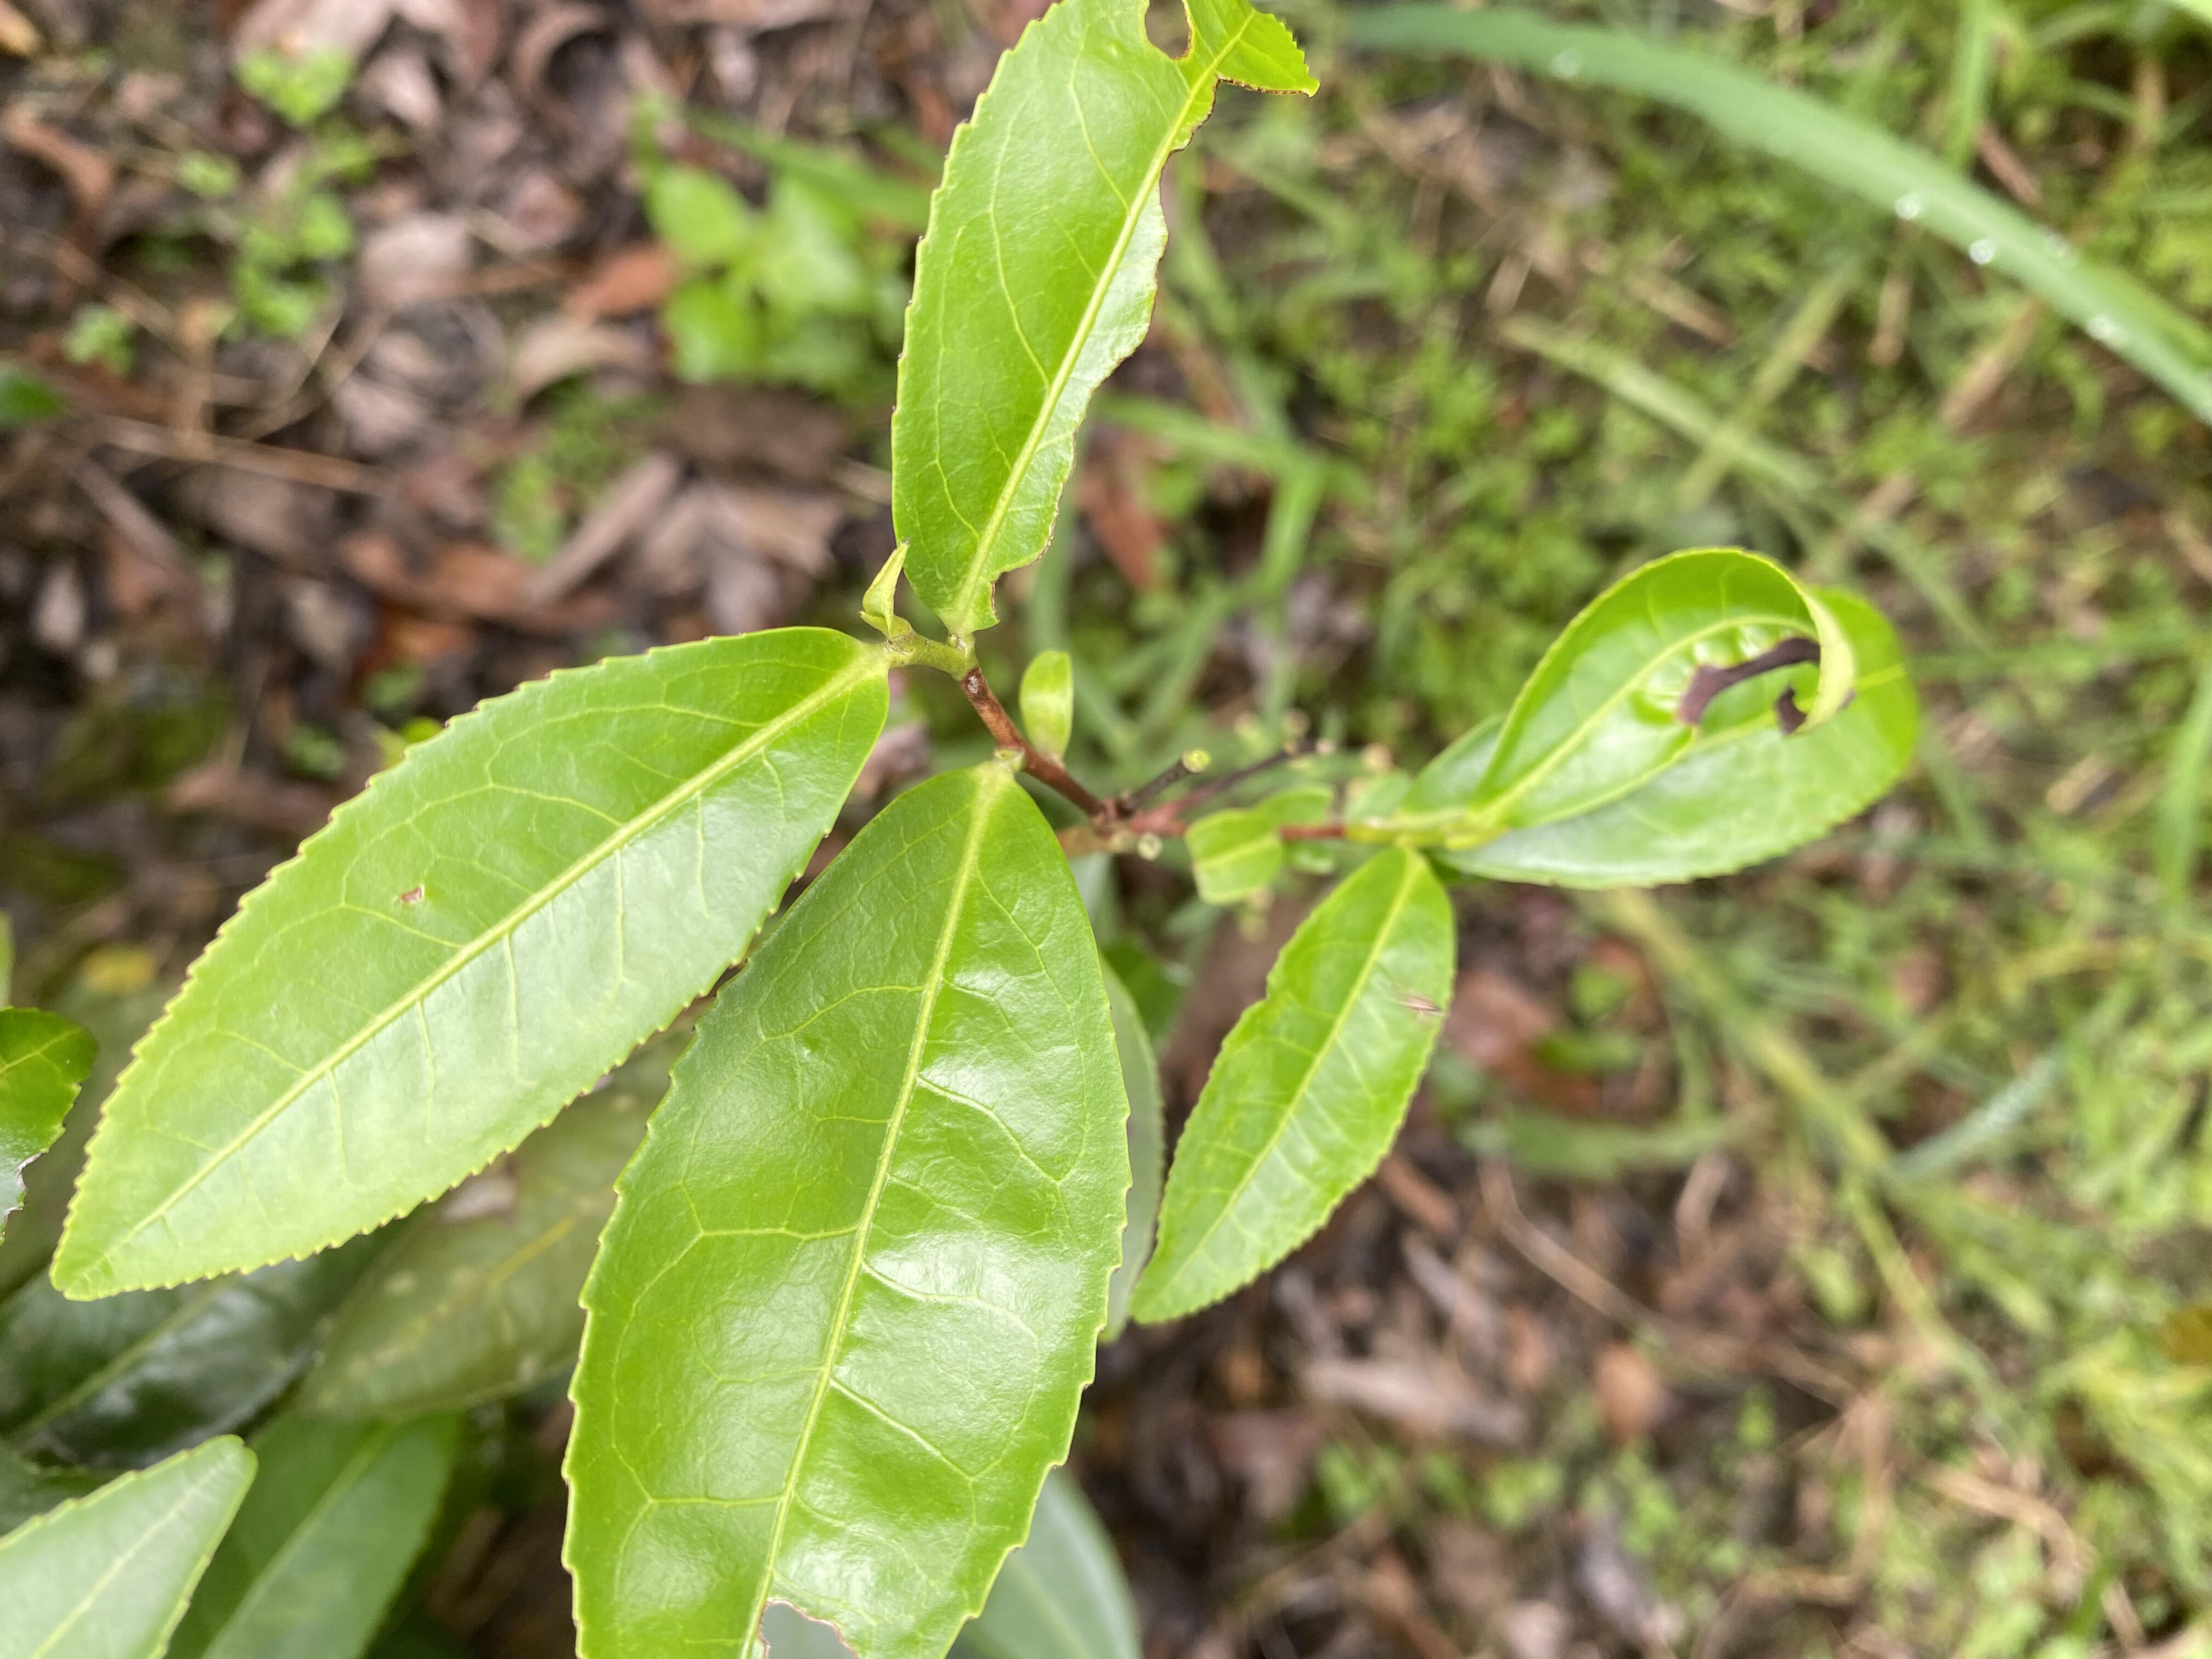chihuo_high: (888, 2, 1325, 638)
chihuo_low: (561, 763, 1134, 1659)
tanju_high: (1470, 547, 1858, 828)
tanju_low: (52, 626, 887, 1310), (1129, 843, 1458, 1328)
